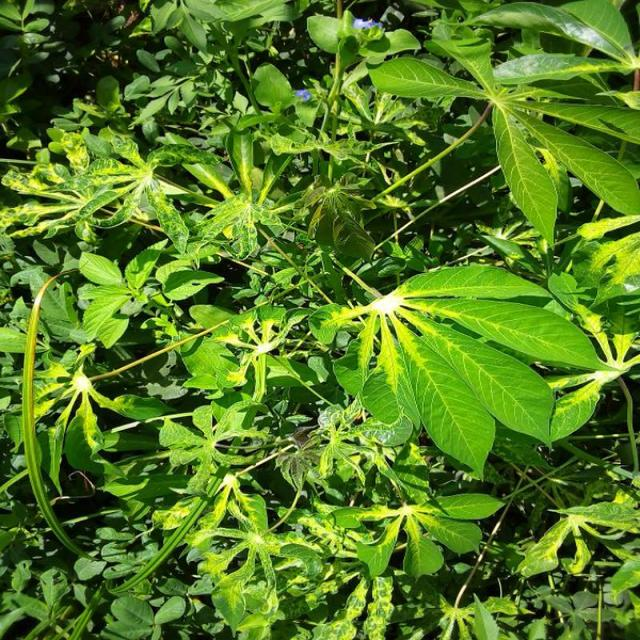cassava leaf: (4, 0, 638, 637), (322, 260, 606, 480)
